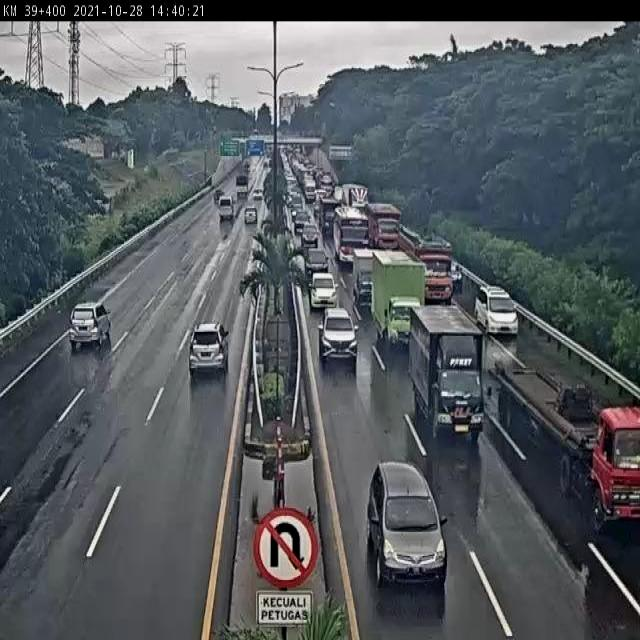Bus: (330, 202, 373, 266)
Car: (355, 442, 458, 608), (185, 314, 231, 384), (65, 296, 114, 353), (475, 278, 519, 340), (320, 304, 357, 362), (310, 271, 336, 308), (306, 245, 328, 275), (453, 259, 468, 293), (299, 220, 318, 246), (292, 206, 310, 230), (288, 195, 306, 218), (243, 204, 259, 228), (252, 179, 266, 201)
Truck: (486, 363, 640, 533), (410, 289, 493, 442), (371, 250, 431, 348), (414, 233, 458, 305), (368, 193, 402, 250), (348, 246, 376, 310), (341, 179, 371, 213), (233, 170, 250, 201)
Van: (218, 194, 235, 225)
